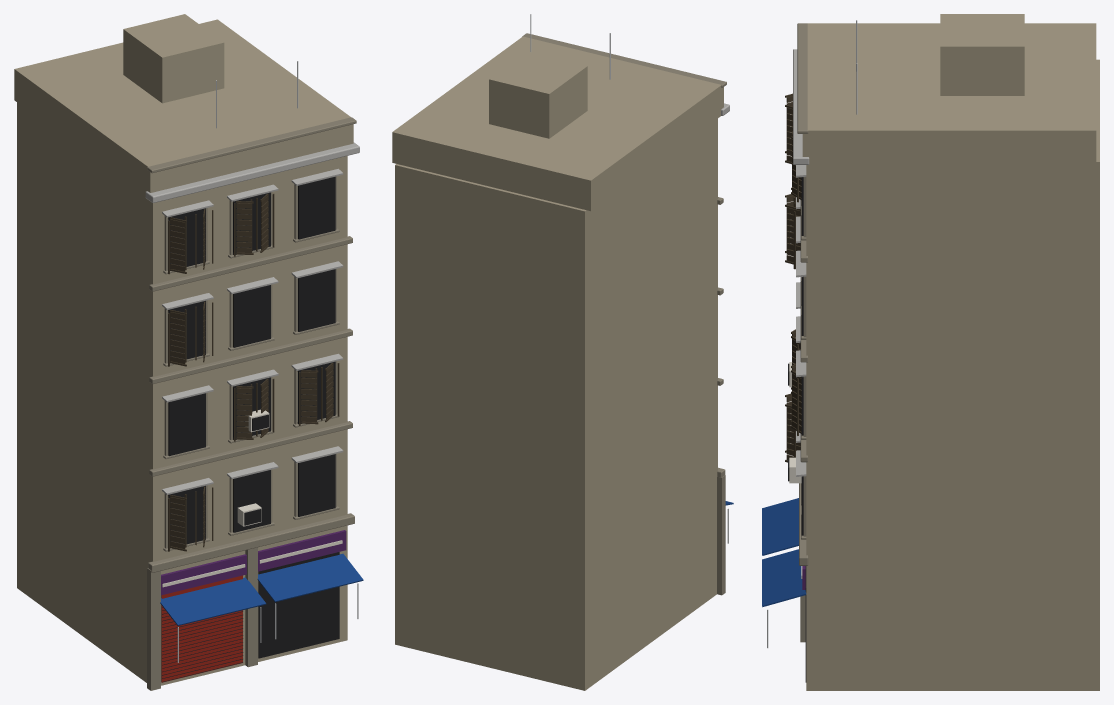
The model's file is KIT_BLDG_D.glb.
3 renders of one model, left to right at view 1: azimuth 30°, elevation 25°; view 2: azimuth 150°, elevation 25°; view 3: azimuth 270°, elevation 25°, orthographic. The views are drawn at different scales.
Parts seen in each view (by area): view 1: KIT_BLDG_D; view 2: KIT_BLDG_D; view 3: KIT_BLDG_D.
Boxes of the visible parts, <box> form: KIT_BLDG_D: <box>14,14,363,690</box>; KIT_BLDG_D: <box>392,14,733,690</box>; KIT_BLDG_D: <box>762,14,1099,690</box>.
Bounding box in the file's own units: 7.04 × 18.45 × 9.2.
